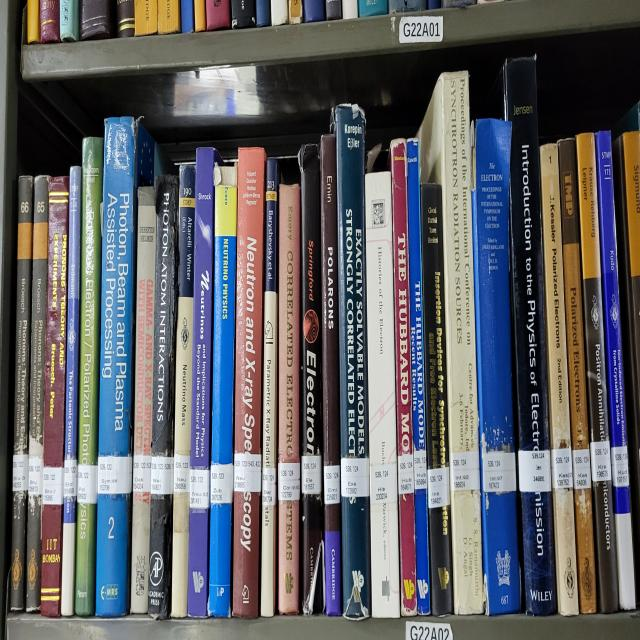Book: (419, 70, 484, 614), (502, 57, 556, 614), (472, 119, 521, 614), (95, 116, 140, 617), (576, 133, 619, 611), (332, 106, 371, 620), (595, 133, 636, 609), (540, 143, 579, 614), (559, 141, 596, 614), (365, 170, 400, 617), (232, 149, 265, 617), (188, 149, 220, 617), (75, 138, 104, 617), (148, 176, 179, 620), (420, 184, 452, 614), (390, 141, 418, 617), (209, 165, 238, 617), (40, 176, 69, 617), (299, 143, 325, 614), (406, 138, 430, 614), (130, 187, 156, 614), (10, 176, 34, 611), (320, 135, 341, 617), (26, 176, 49, 611), (278, 184, 300, 614), (61, 165, 81, 617), (260, 157, 279, 617), (171, 295, 194, 617), (179, 165, 195, 290)
Label: (519, 449, 551, 492), (98, 455, 132, 495), (482, 452, 516, 492), (341, 457, 370, 498), (450, 452, 480, 490), (370, 463, 398, 503), (234, 452, 261, 492), (210, 463, 234, 503), (551, 446, 572, 490), (150, 457, 174, 495), (42, 465, 64, 506), (428, 468, 450, 509), (590, 441, 611, 482), (278, 463, 300, 501), (190, 468, 210, 509), (78, 463, 98, 503), (301, 455, 321, 495), (572, 449, 591, 490), (611, 446, 629, 487), (132, 455, 151, 492), (12, 452, 29, 492), (324, 465, 340, 506), (398, 455, 414, 495), (174, 455, 190, 492), (64, 457, 78, 498), (414, 449, 428, 490), (29, 457, 44, 495), (262, 468, 276, 506)
